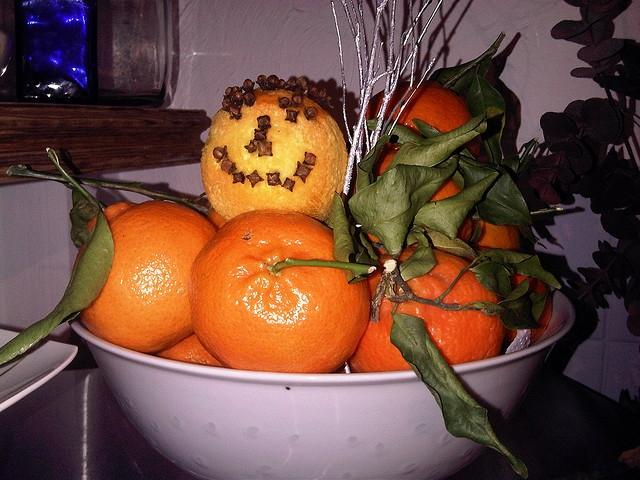orange: (187, 208, 371, 374), (72, 200, 216, 355), (348, 248, 518, 374), (202, 88, 349, 222), (366, 80, 481, 162), (499, 272, 552, 356), (156, 331, 226, 369), (457, 218, 523, 253), (88, 202, 138, 234), (428, 178, 460, 202), (203, 200, 227, 231), (332, 360, 353, 373)
